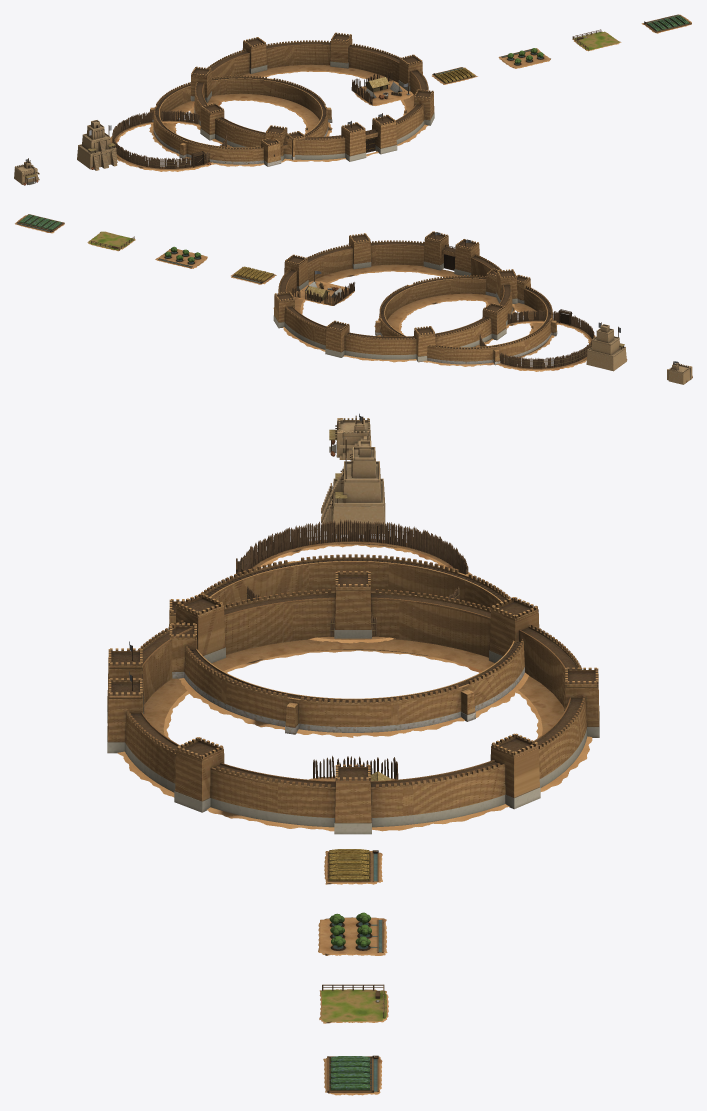
File: shared-bronze-f6110cd1.glb
The picture shows the model from 3 angles, top to bottom: view 1: azimuth 30°, elevation 25°; view 2: azimuth 150°, elevation 25°; view 3: azimuth 270°, elevation 25°; orthographic projection. The views are drawn at different scales.
Visible parts, largest first — view 1: LOD0.004, LOD0.003, LOD0.002, LOD0.001, LOD0.005, LOD0.007, LOD0.008, LOD0.009, LOD0.006, LOD0; view 2: LOD0.004, LOD0.003, LOD0.002, LOD0.001, LOD0.005, LOD0.007, LOD0.008, LOD0.009, LOD0.006, LOD0; view 3: LOD0.004, LOD0.003, LOD0.002, LOD0.001, LOD0.007, LOD0.008, LOD0.009, LOD0.006, LOD0, LOD0.005.
Part boxes in pixels (<box>): LOD0.004: <box>190,32,434,161</box>; LOD0.003: <box>149,75,332,166</box>; LOD0.002: <box>110,110,230,171</box>; LOD0.001: <box>77,120,117,170</box>; LOD0.005: <box>351,72,413,105</box>; LOD0.007: <box>498,48,550,68</box>; LOD0.008: <box>572,29,621,51</box>; LOD0.009: <box>641,14,691,33</box>; LOD0.006: <box>432,67,477,84</box>; LOD0: <box>14,158,39,185</box>; LOD0.004: <box>273,231,517,362</box>; LOD0.003: <box>374,268,557,366</box>; LOD0.002: <box>476,309,595,371</box>; LOD0.001: <box>586,322,627,371</box>; LOD0.005: <box>292,270,354,305</box>; LOD0.007: <box>155,246,207,268</box>; LOD0.008: <box>87,231,135,251</box>; LOD0.009: <box>15,214,64,233</box>; LOD0.006: <box>231,266,276,284</box>; LOD0: <box>667,361,692,384</box>; LOD0.004: <box>107,571,599,834</box>; LOD0.003: <box>169,554,528,737</box>; LOD0.002: <box>236,519,470,643</box>; LOD0.001: <box>321,439,385,533</box>; LOD0.007: <box>318,912,387,955</box>; LOD0.008: <box>319,984,388,1023</box>; LOD0.009: <box>323,1055,382,1095</box>; LOD0.006: <box>324,849,382,884</box>; LOD0: <box>329,413,370,459</box>; LOD0.005: <box>309,756,398,781</box>.
Size of what is drawn, in the model's own units: 28.27 by 1.59 by 9.01.
3 materials, 3 textured.
